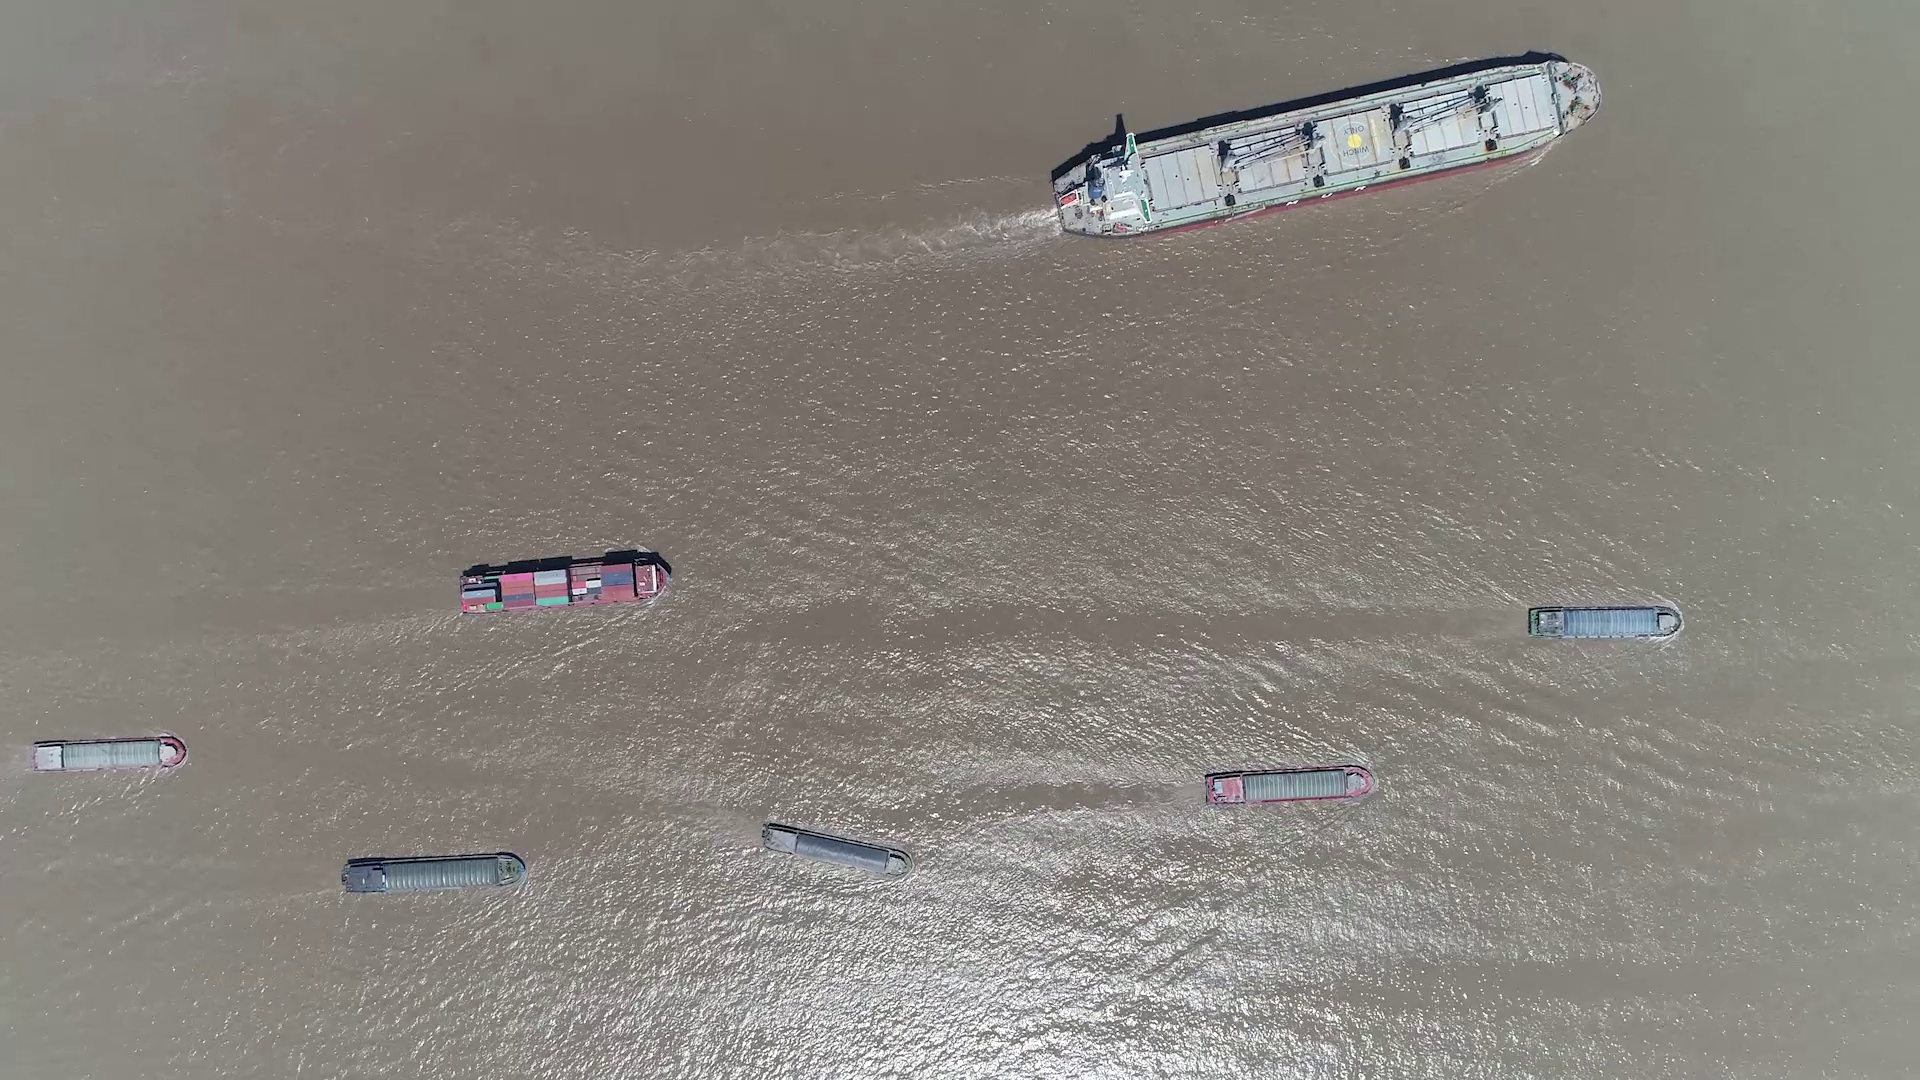ship: (1051, 65, 1602, 233), (460, 556, 670, 615), (760, 823, 907, 876), (344, 852, 527, 891), (1205, 765, 1374, 806), (30, 736, 186, 771), (1527, 605, 1680, 640)
